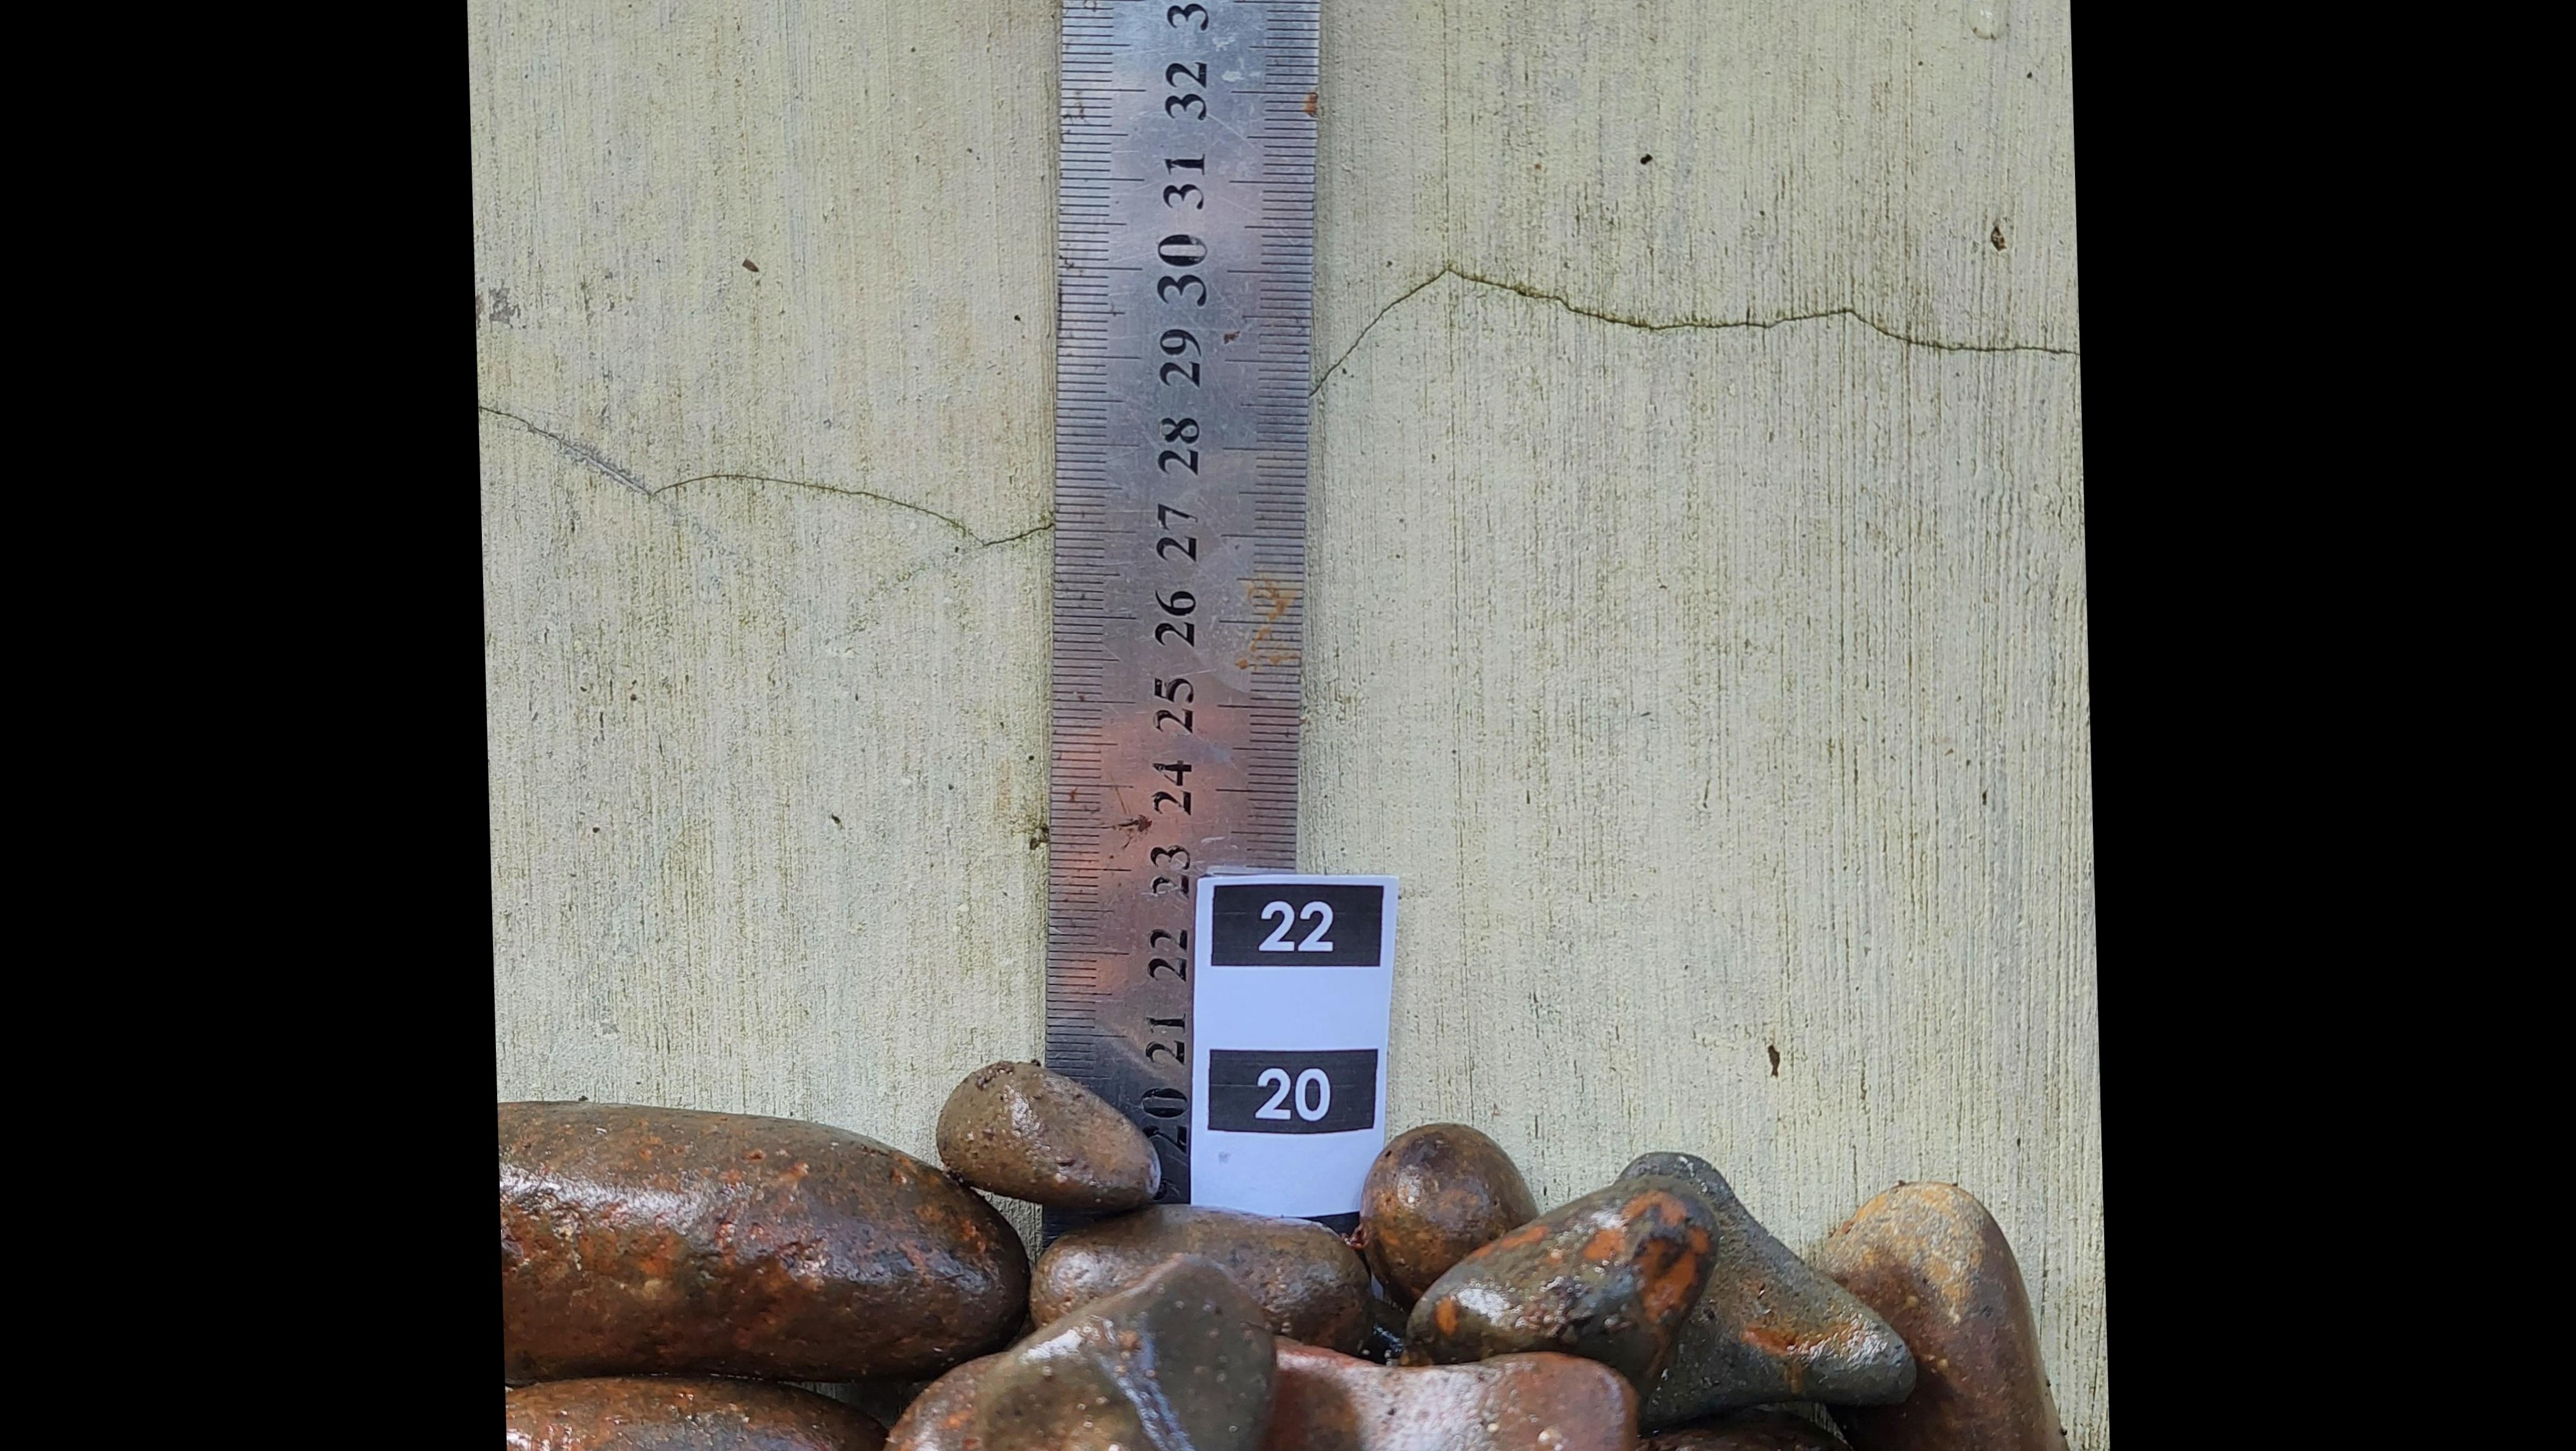kotak_2x1: (1207, 1048, 1378, 1134), (1212, 885, 1385, 966)
